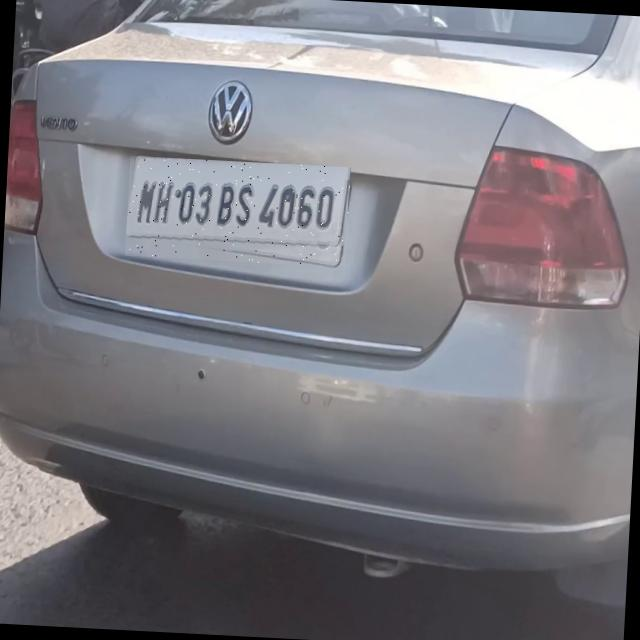Plate: (126, 157, 352, 268)
